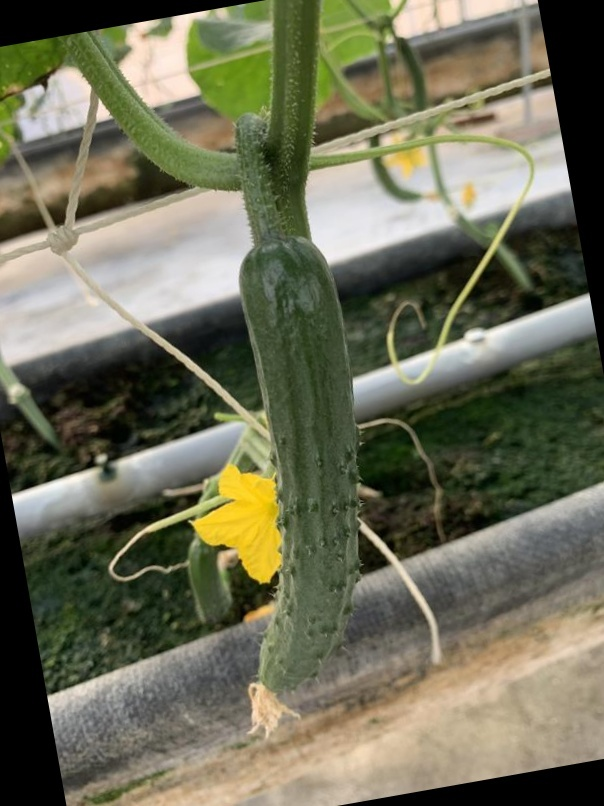growth: (215, 231, 390, 734)
